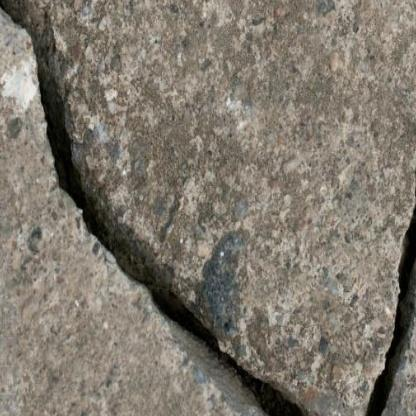Cracks: (0, 0, 319, 416), (354, 87, 416, 416)
